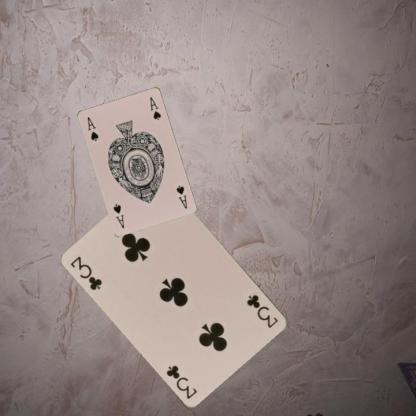3c: (244, 292, 280, 329), (68, 254, 104, 291)
As: (84, 115, 100, 142), (174, 182, 188, 210)
